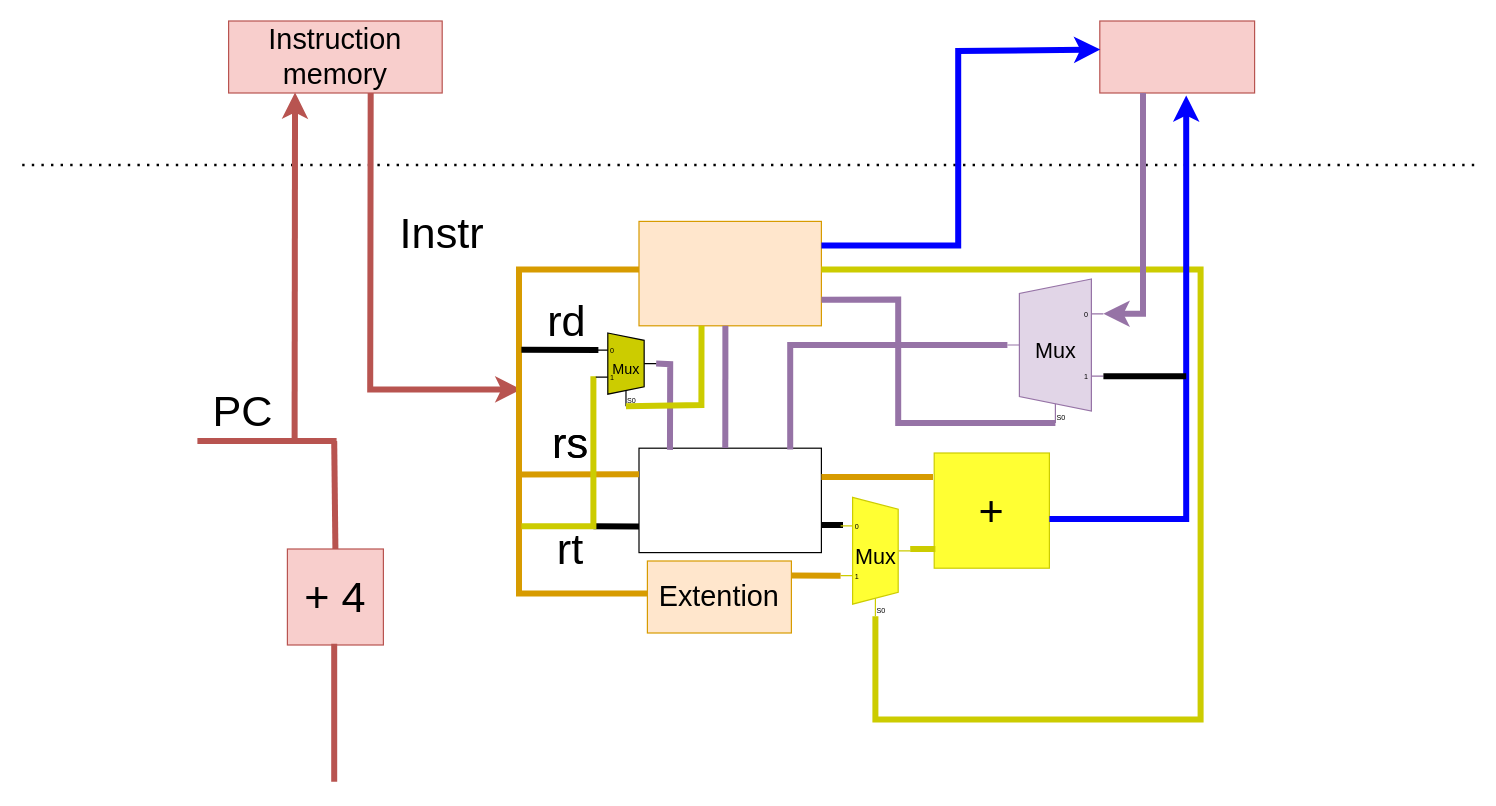
Image size: 1496x806. Some labels were removed from this diagram. Here are the shapes that lost their labels. From the top down, the centre of each, then its label:
At (x=1177, y=56): "Data memory".
At (x=729, y=273): "Controller".
At (x=729, y=500): "Register File".
